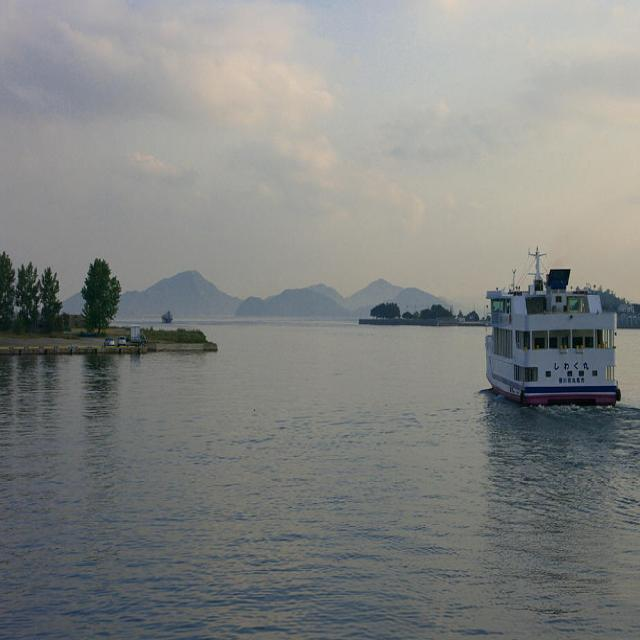passenger ship: (466, 256, 620, 405)
